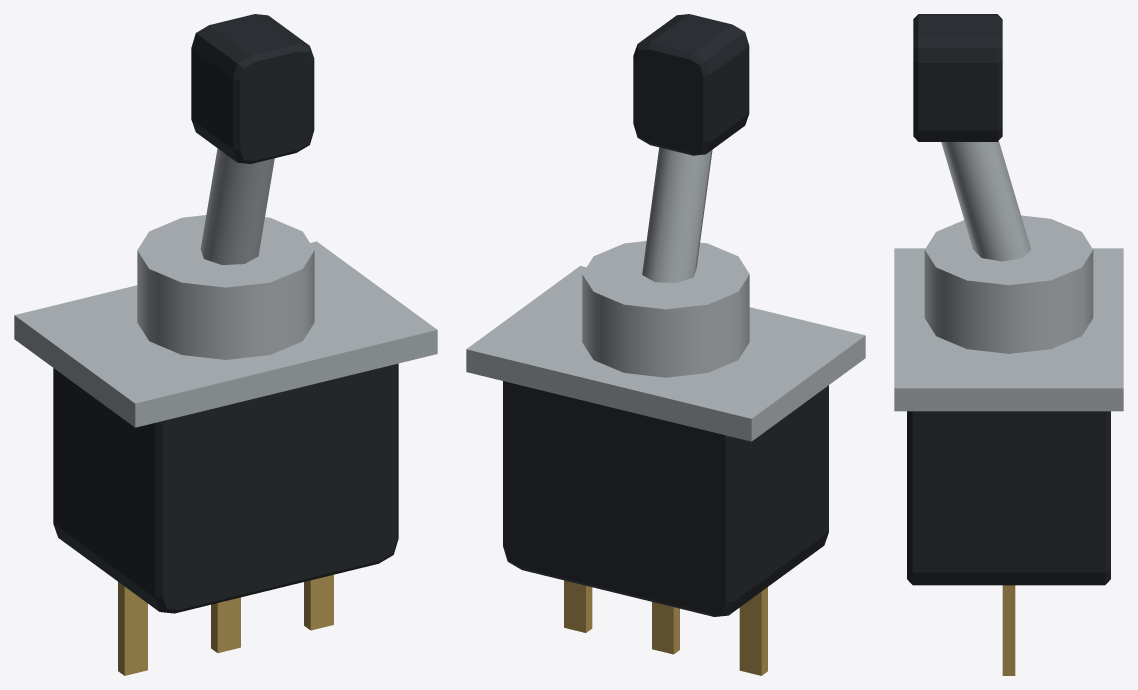
Rendered from cmp-switch.glb.
3 views of the same model, side by side, from view 1: azimuth 30°, elevation 25°; view 2: azimuth 150°, elevation 25°; view 3: azimuth 270°, elevation 25° (orthographic). The views are drawn at different scales.
Visible parts, largest first — view 1: STATIC_paint, STATIC_metal; view 2: STATIC_paint, STATIC_metal; view 3: STATIC_metal, STATIC_paint.
Part boxes in pixels (box(x1,y1,x2,y2)): STATIC_paint: box(53, 14, 398, 613); STATIC_metal: box(14, 148, 437, 675); STATIC_paint: box(503, 14, 828, 616); STATIC_metal: box(466, 147, 865, 675); STATIC_metal: box(894, 140, 1123, 675); STATIC_paint: box(907, 14, 1110, 585).
Size of the model in its own units: 0.013 by 0.026 by 0.009.
